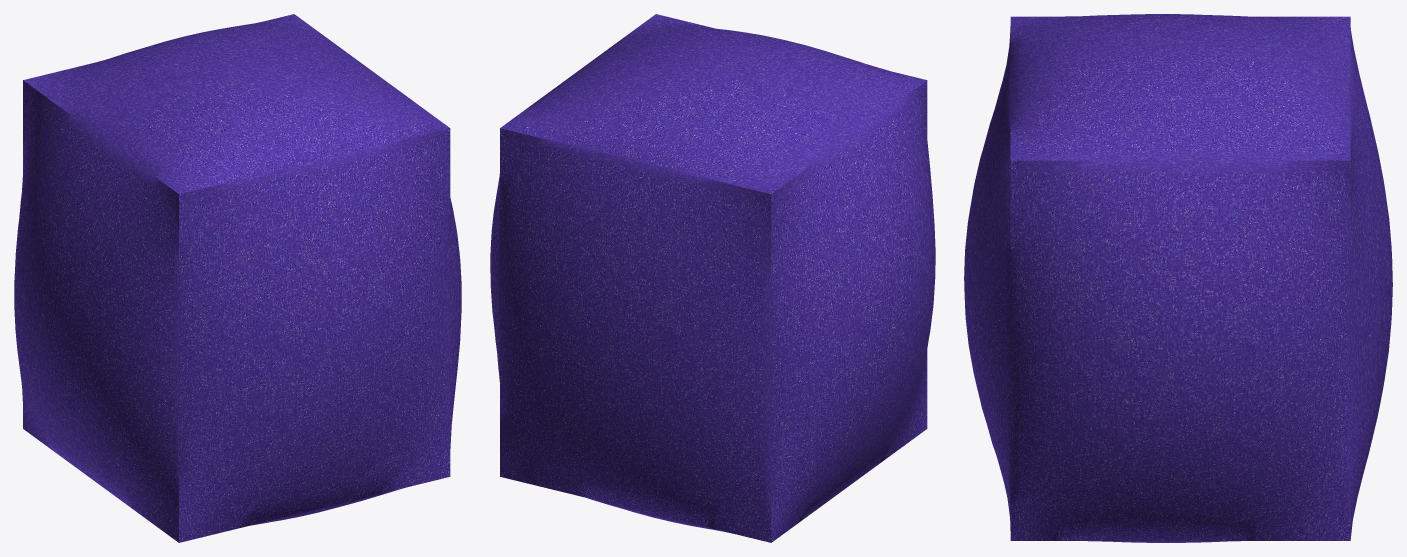
The model's file is R_5_inflated.glb.
3 views of the same model, side by side, from view 1: azimuth 30°, elevation 25°; view 2: azimuth 150°, elevation 25°; view 3: azimuth 270°, elevation 25° (orthographic). The views are drawn at different scales.
Parts seen in each view (by area): view 1: R_5_inflated; view 2: R_5_inflated; view 3: R_5_inflated.
Part boxes in pixels (x1,y1,x2,y2): R_5_inflated: (14,14,461,542); R_5_inflated: (490,14,935,542); R_5_inflated: (964,14,1392,542).
Bounding box in the file's own units: 4.05 × 4.38 × 3.67.
Materials: 1 (1 with a texture image).
